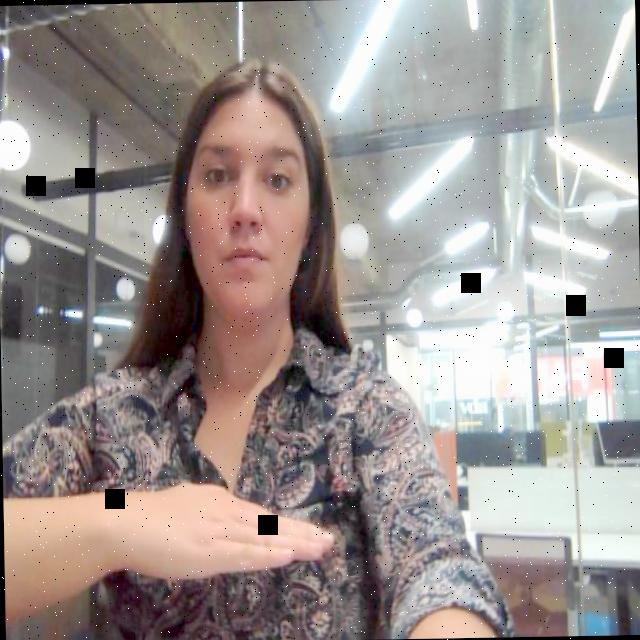Paper: (112, 477, 338, 586)
